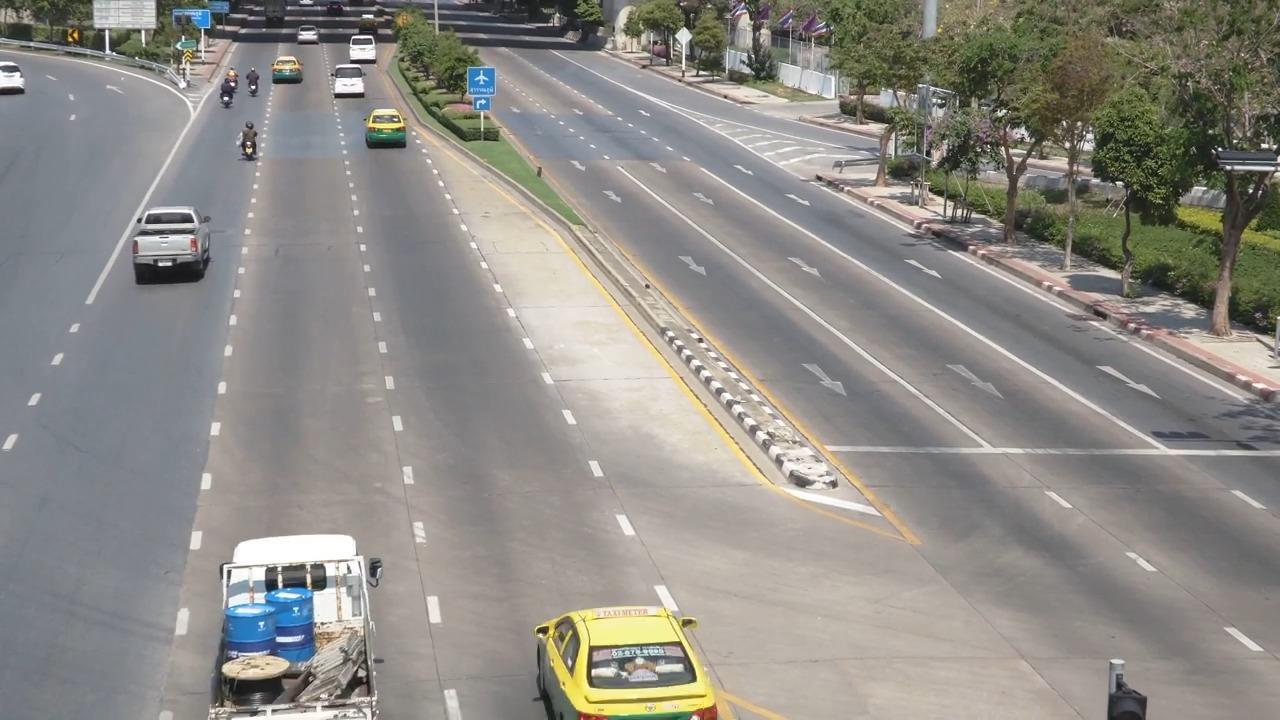CAR: (196, 510, 411, 720), (512, 579, 737, 720), (119, 193, 217, 293), (351, 104, 420, 167), (0, 54, 61, 113), (337, 30, 388, 76), (321, 68, 383, 105), (284, 20, 339, 60), (263, 55, 312, 99)
MOTOR: (224, 123, 273, 185), (238, 65, 276, 112), (203, 81, 238, 128)
